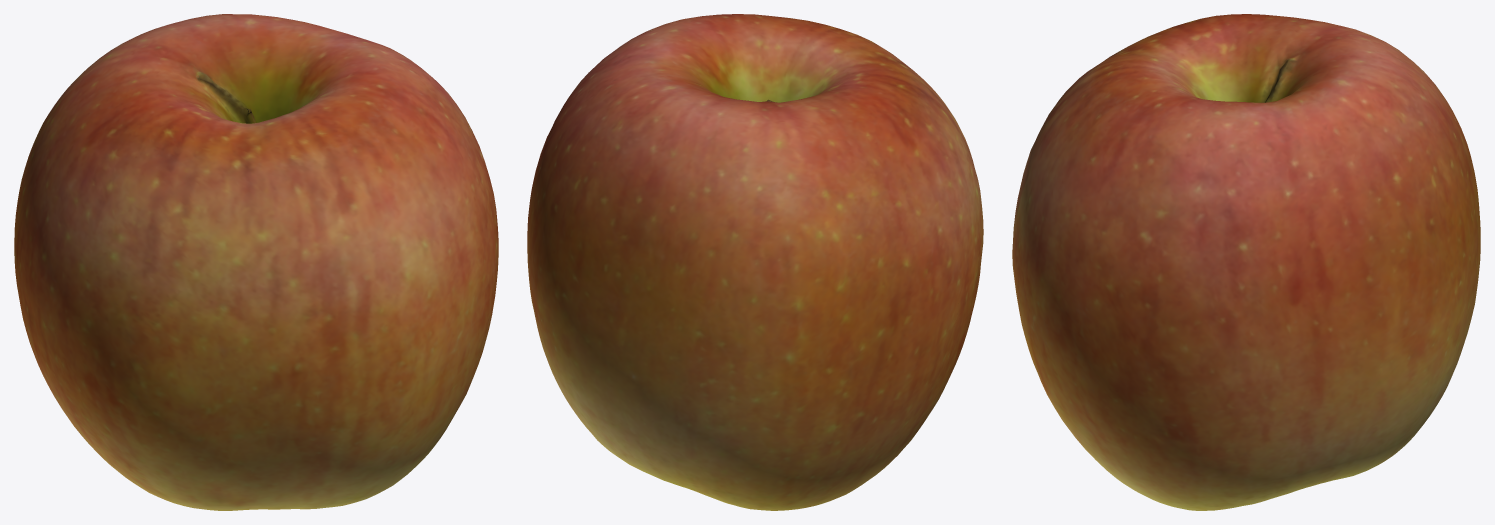
The model's file is apple_photogrammetry.glb.
3 renders of one model, left to right at view 1: azimuth 30°, elevation 25°; view 2: azimuth 150°, elevation 25°; view 3: azimuth 270°, elevation 25°, orthographic.
Parts seen in each view (by area): view 1: Model; view 2: Model; view 3: Model.
Part boxes in pixels (bbox=[...]): Model: bbox=[14, 14, 498, 510]; Model: bbox=[527, 14, 983, 510]; Model: bbox=[1012, 14, 1480, 510].
Size of the model in its own units: 8.07 by 7.88 by 8.1.
1 material, 1 textured.
